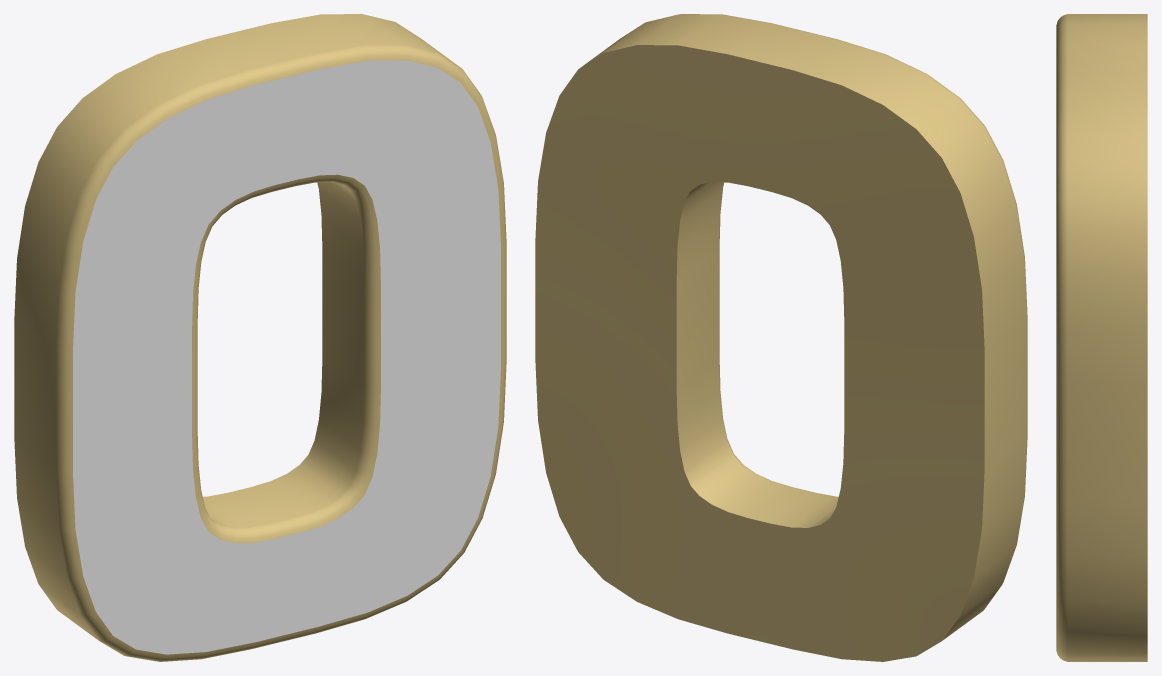
The model's file is LettersLightUp02_0.FBX.
The picture shows the model from 3 angles, left to right: view 1: azimuth 30°, elevation 25°; view 2: azimuth 150°, elevation 25°; view 3: azimuth 270°, elevation 25°; orthographic projection. The views are drawn at different scales.
Visible parts, largest first — view 1: LettersLightUp02_0; view 2: LettersLightUp02_0; view 3: LettersLightUp02_0.
Boxes of the visible parts, x1,y1,x2,y2 form: LettersLightUp02_0: (14, 14, 506, 661); LettersLightUp02_0: (535, 14, 1027, 661); LettersLightUp02_0: (1056, 14, 1147, 661).
Size of what is drawn, in the model's own units: 0.4935 by 0.608 by 0.0912.
